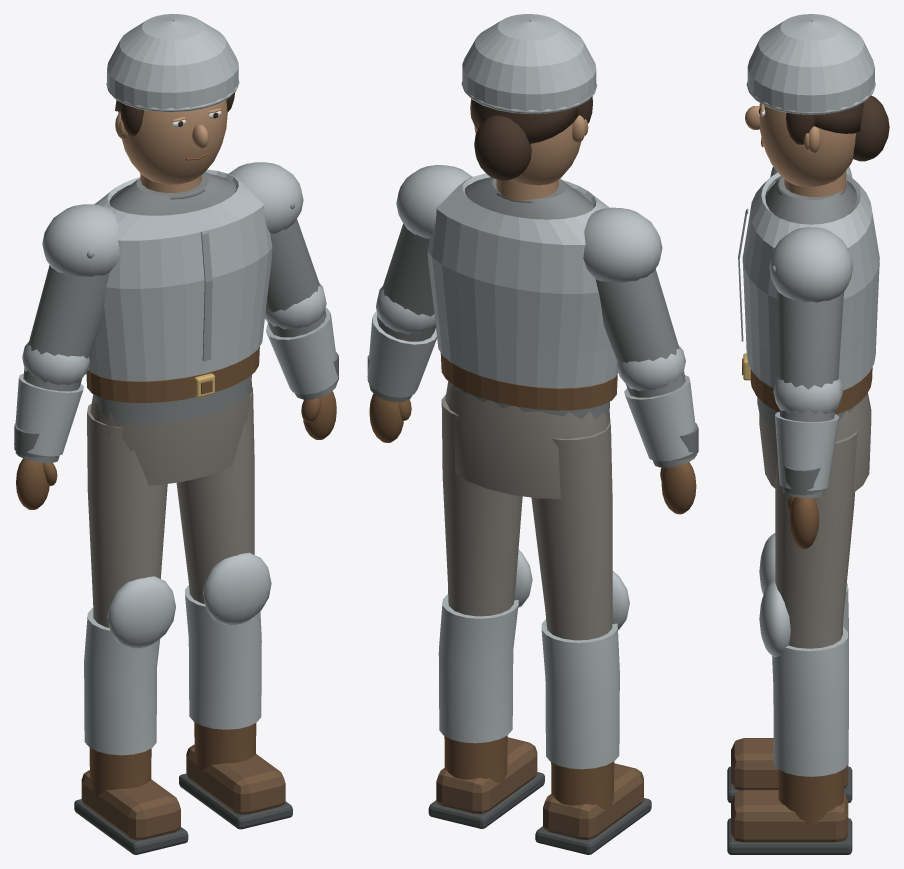
File: soldier_medieval_2.glb
3 views of the same model, side by side, from view 1: azimuth 30°, elevation 25°; view 2: azimuth 150°, elevation 25°; view 3: azimuth 270°, elevation 25° (orthographic).
Parts seen in each view (by area): view 1: Medieval_Soldier_2_Medieval_Breastplate, Medieval_Soldier_2_Trouser_Leg, Medieval_Soldier_2_Open_Face_Helmet, Medieval_Soldier_2_Metal_Shin_Guard, Medieval_Soldier_2_Metal_Shin_Guard.001, Medieval_Soldier_2_Trouser_Leg.001, Medieval_Soldier_2_Connected_Hip_Garment, Medieval_Soldier_2_Torso_And_Main_Clothes, Medieval_Soldier_2_Long_Sleeve, Medieval_Soldier_2_Head, Medieval_Soldier_2_Rounded_Shoulder_Armor, Medieval_Soldier_2_Shoe_Upper.001 (+17 smaller); view 2: Medieval_Soldier_2_Medieval_Breastplate, Medieval_Soldier_2_Trouser_Leg, Medieval_Soldier_2_Open_Face_Helmet, Medieval_Soldier_2_Connected_Hip_Garment, Medieval_Soldier_2_Trouser_Leg.001, Medieval_Soldier_2_Metal_Shin_Guard, Medieval_Soldier_2_Metal_Shin_Guard.001, Medieval_Soldier_2_Long_Sleeve, Medieval_Soldier_2_Rounded_Shoulder_Armor, Medieval_Soldier_2_Waist_Belt, Medieval_Soldier_2_Long_Sleeve.001, Medieval_Soldier_2_Metal_Forearm_Guard (+19 smaller); view 3: Medieval_Soldier_2_Medieval_Breastplate, Medieval_Soldier_2_Trouser_Leg.001, Medieval_Soldier_2_Open_Face_Helmet, Medieval_Soldier_2_Metal_Shin_Guard.001, Medieval_Soldier_2_Long_Sleeve.001, Medieval_Soldier_2_Rounded_Shoulder_Armor.001, Medieval_Soldier_2_Shoe_Upper.001, Medieval_Soldier_2_Head, Medieval_Soldier_2_Metal_Forearm_Guard.001, Medieval_Soldier_2_Torso_And_Main_Clothes, Medieval_Soldier_2_Connected_Hip_Garment, Medieval_Soldier_2_High_Boot_Shaft.001 (+15 smaller).
Part boxes in pixels (x1=…): Medieval_Soldier_2_Medieval_Breastplate: x1=88, y1=169, x2=272, y2=381; Medieval_Soldier_2_Trouser_Leg: x1=87, y1=403, x2=167, y2=627; Medieval_Soldier_2_Open_Face_Helmet: x1=107, y1=14, x2=238, y2=110; Medieval_Soldier_2_Metal_Shin_Guard: x1=84, y1=608, x2=160, y2=755; Medieval_Soldier_2_Metal_Shin_Guard.001: x1=185, y1=585, x2=261, y2=729; Medieval_Soldier_2_Trouser_Leg.001: x1=176, y1=387, x2=254, y2=603; Medieval_Soldier_2_Connected_Hip_Garment: x1=90, y1=381, x2=252, y2=485; Medieval_Soldier_2_Torso_And_Main_Clothes: x1=93, y1=172, x2=251, y2=424; Medieval_Soldier_2_Long_Sleeve: x1=15, y1=265, x2=109, y2=462; Medieval_Soldier_2_Head: x1=118, y1=99, x2=227, y2=184; Medieval_Soldier_2_Rounded_Shoulder_Armor: x1=42, y1=204, x2=119, y2=276; Medieval_Soldier_2_Shoe_Upper.001: x1=186, y1=744, x2=285, y2=814; Medieval_Soldier_2_Medieval_Breastplate: x1=427, y1=173, x2=618, y2=388; Medieval_Soldier_2_Trouser_Leg: x1=531, y1=422, x2=612, y2=640; Medieval_Soldier_2_Open_Face_Helmet: x1=462, y1=14, x2=596, y2=112; Medieval_Soldier_2_Connected_Hip_Garment: x1=445, y1=381, x2=610, y2=498; Medieval_Soldier_2_Trouser_Leg.001: x1=441, y1=394, x2=522, y2=616; Medieval_Soldier_2_Metal_Shin_Guard: x1=541, y1=619, x2=619, y2=769; Medieval_Soldier_2_Metal_Shin_Guard.001: x1=438, y1=594, x2=518, y2=743; Medieval_Soldier_2_Long_Sleeve: x1=595, y1=269, x2=696, y2=467; Medieval_Soldier_2_Rounded_Shoulder_Armor: x1=583, y1=207, x2=662, y2=282; Medieval_Soldier_2_Waist_Belt: x1=440, y1=353, x2=617, y2=410; Medieval_Soldier_2_Long_Sleeve.001: x1=369, y1=223, x2=435, y2=402; Medieval_Soldier_2_Metal_Forearm_Guard: x1=624, y1=375, x2=695, y2=461; Medieval_Soldier_2_Medieval_Breastplate: x1=742, y1=172, x2=879, y2=390; Medieval_Soldier_2_Trouser_Leg.001: x1=775, y1=430, x2=858, y2=648; Medieval_Soldier_2_Open_Face_Helmet: x1=747, y1=14, x2=874, y2=113; Medieval_Soldier_2_Metal_Shin_Guard.001: x1=772, y1=627, x2=848, y2=776; Medieval_Soldier_2_Long_Sleeve.001: x1=777, y1=290, x2=843, y2=497; Medieval_Soldier_2_Rounded_Shoulder_Armor.001: x1=769, y1=227, x2=852, y2=302; Medieval_Soldier_2_Shoe_Upper.001: x1=731, y1=789, x2=848, y2=842; Medieval_Soldier_2_Head: x1=759, y1=103, x2=856, y2=186; Medieval_Soldier_2_Metal_Forearm_Guard.001: x1=775, y1=412, x2=839, y2=490; Medieval_Soldier_2_Torso_And_Main_Clothes: x1=757, y1=177, x2=857, y2=429; Medieval_Soldier_2_Connected_Hip_Garment: x1=759, y1=393, x2=871, y2=492; Medieval_Soldier_2_High_Boot_Shaft.001: x1=778, y1=769, x2=843, y2=823.
Size of the model in its own units: 0.722 by 1.7 by 0.3142.
